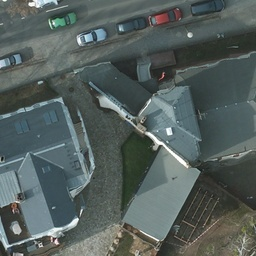car: (44, 10, 78, 28), (74, 28, 107, 45), (149, 9, 181, 25), (190, 1, 223, 15), (115, 18, 145, 31), (1, 54, 22, 69)
